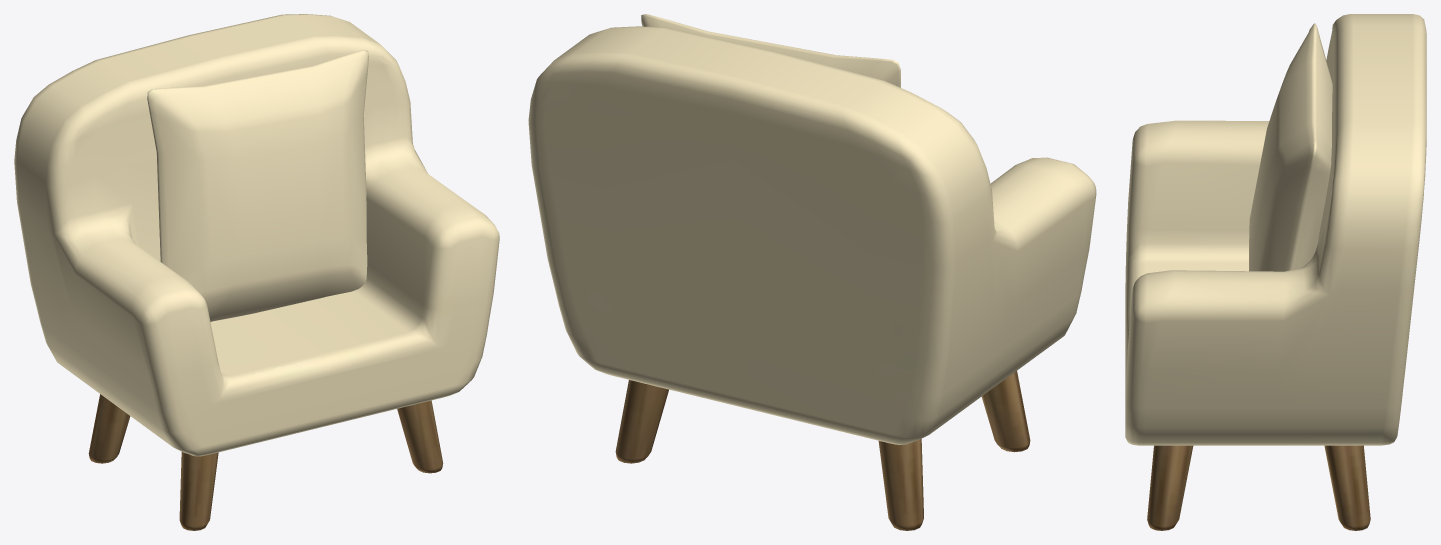
File: sofa.v2.glb
3 renders of one model, left to right at view 1: azimuth 30°, elevation 25°; view 2: azimuth 150°, elevation 25°; view 3: azimuth 270°, elevation 25°, orthographic. The views are drawn at different scales.
Parts seen in each view (by area): view 1: Cube.022, cushion, sofa_legs; view 2: Cube.022, sofa_legs, cushion; view 3: Cube.022, cushion, sofa_legs.
Part boxes in pixels (x1=…): Cube.022: x1=14, y1=14, x2=499, y2=456; cushion: x1=147, y1=50, x2=368, y2=321; sofa_legs: x1=88, y1=394, x2=443, y2=530; Cube.022: x1=528, y1=26, x2=1096, y2=444; sofa_legs: x1=615, y1=371, x2=1030, y2=530; cushion: x1=641, y1=14, x2=900, y2=87; Cube.022: x1=1125, y1=14, x2=1426, y2=445; cushion: x1=1249, y1=23, x2=1332, y2=271; sofa_legs: x1=1147, y1=445, x2=1370, y2=530.
Size of the model in its own units: 2.71 by 2.7 by 1.86.
1 material, 1 textured.
